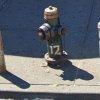a fire hydrant: (39, 4, 69, 66)
